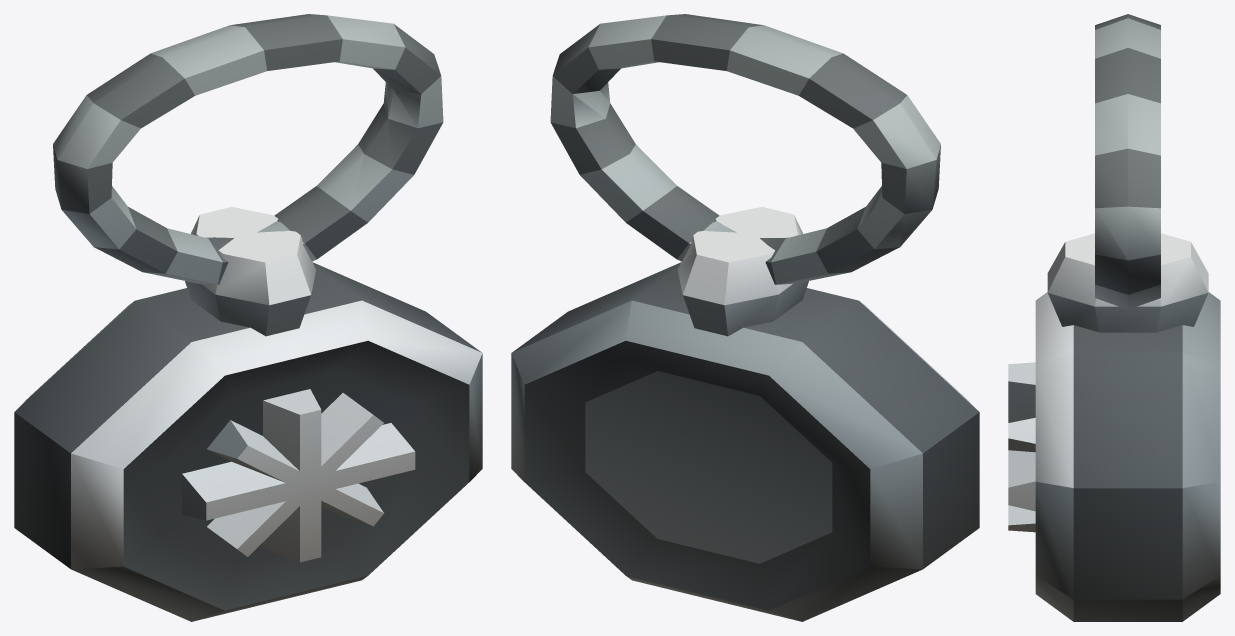
The model's file is amulet_silver_runic_crest.glb.
3 renders of one model, left to right at view 1: azimuth 30°, elevation 25°; view 2: azimuth 150°, elevation 25°; view 3: azimuth 270°, elevation 25°, orthographic. The views are drawn at different scales.
Visible parts, largest first — view 1: Item; view 2: Item; view 3: Item.
Part boxes in pixels (x1=…): Item: x1=14, y1=14, x2=482, y2=621; Item: x1=511, y1=14, x2=979, y2=621; Item: x1=1008, y1=14, x2=1220, y2=621.
Bounding box in the file's own units: 0.56 × 0.72 × 0.26.
2 materials, 2 textured.
